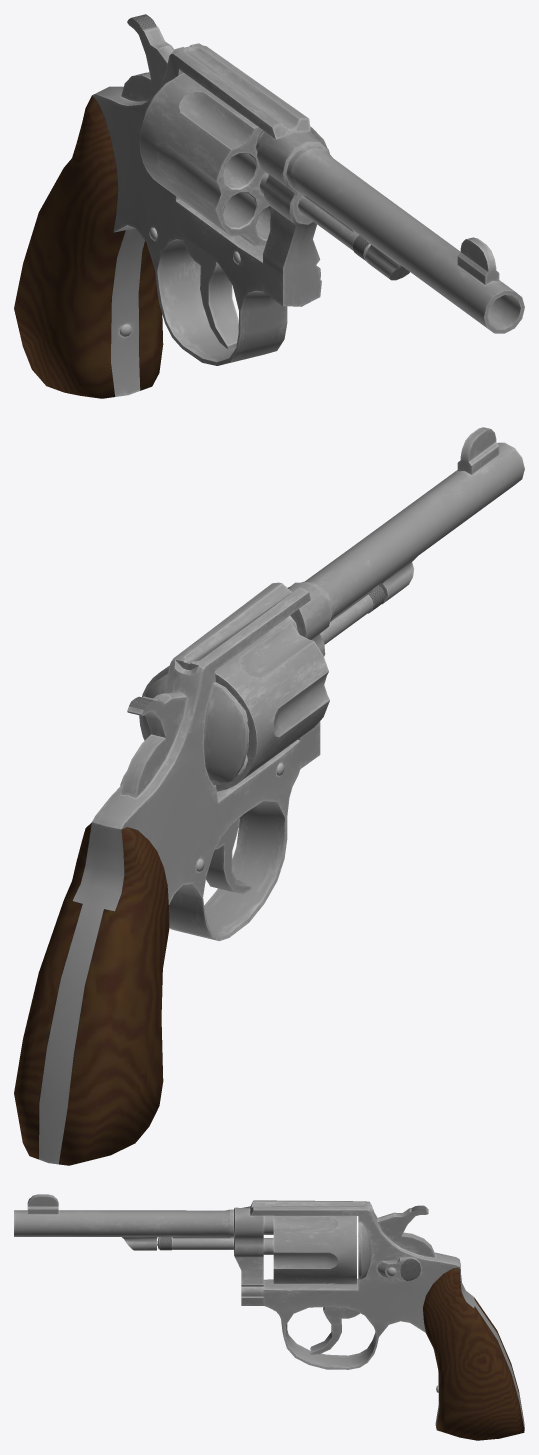
The model's file is revolver.glb.
3 renders of one model, top to bottom at view 1: azimuth 30°, elevation 25°; view 2: azimuth 150°, elevation 25°; view 3: azimuth 270°, elevation 25°, orthographic. The views are drawn at different scales.
Parts seen in each view (by area): view 1: revolver; view 2: revolver; view 3: revolver.
Part boxes in pixels (left/top/right/bottom): revolver: left=14, top=14, right=524, bottom=398; revolver: left=14, top=427, right=524, bottom=1165; revolver: left=14, top=1194, right=524, bottom=1440.
Size of the model in its own units: 0.0448 by 0.1534 by 0.3.
1 material, 1 textured.
